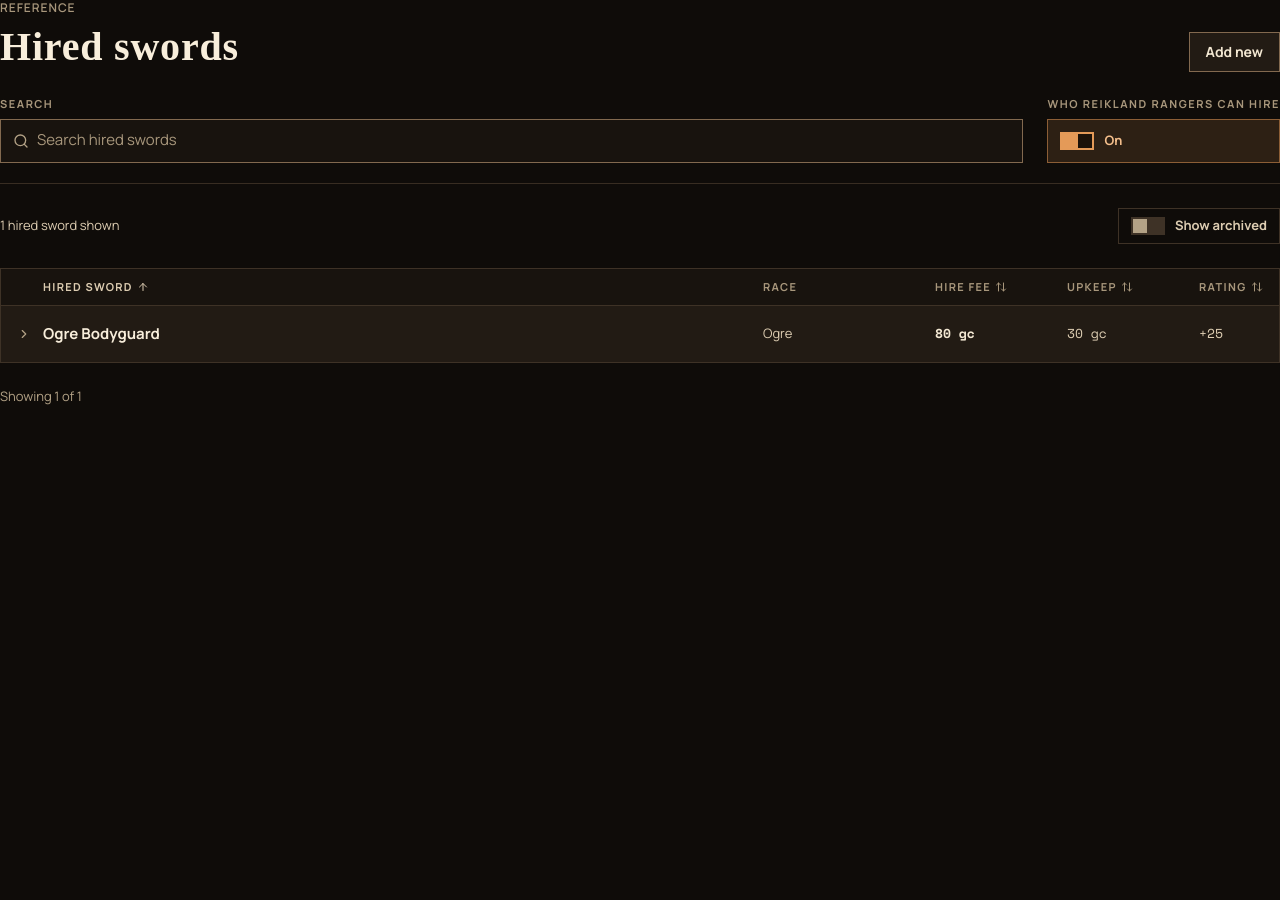
Test: Hired swords opened for a warband › saves a hired sword added here without hiring him, and types nobody in by hand
Expected: the text "Ogre Bodyguard" is shown, [43,323,160,344]
Click the button "Add new". click: (1234, 52)
box: [1188,32,1279,72]
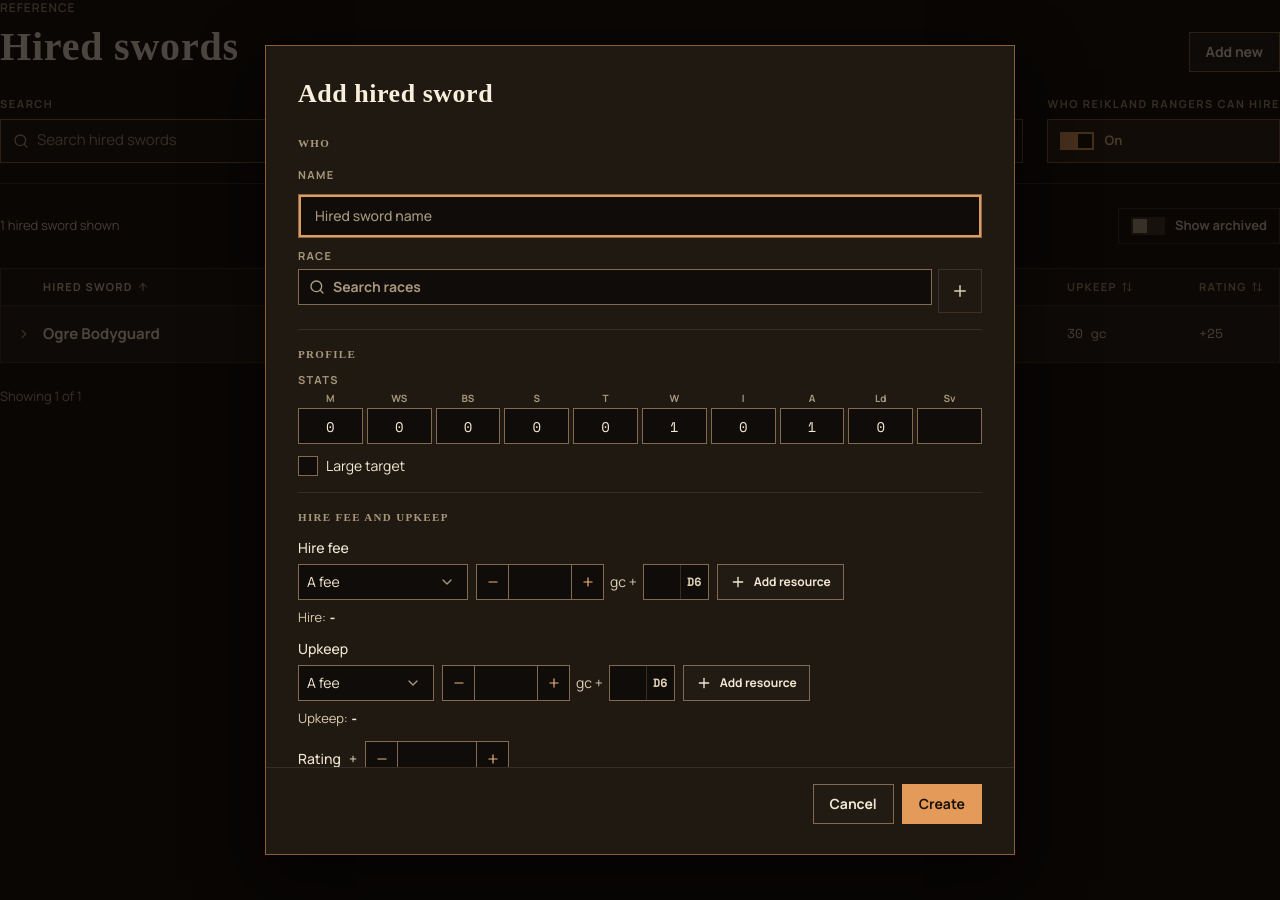
Type "Tilean Duellist" into the field labelled "Name". click: (640, 216)
box: [298,194,982,238]
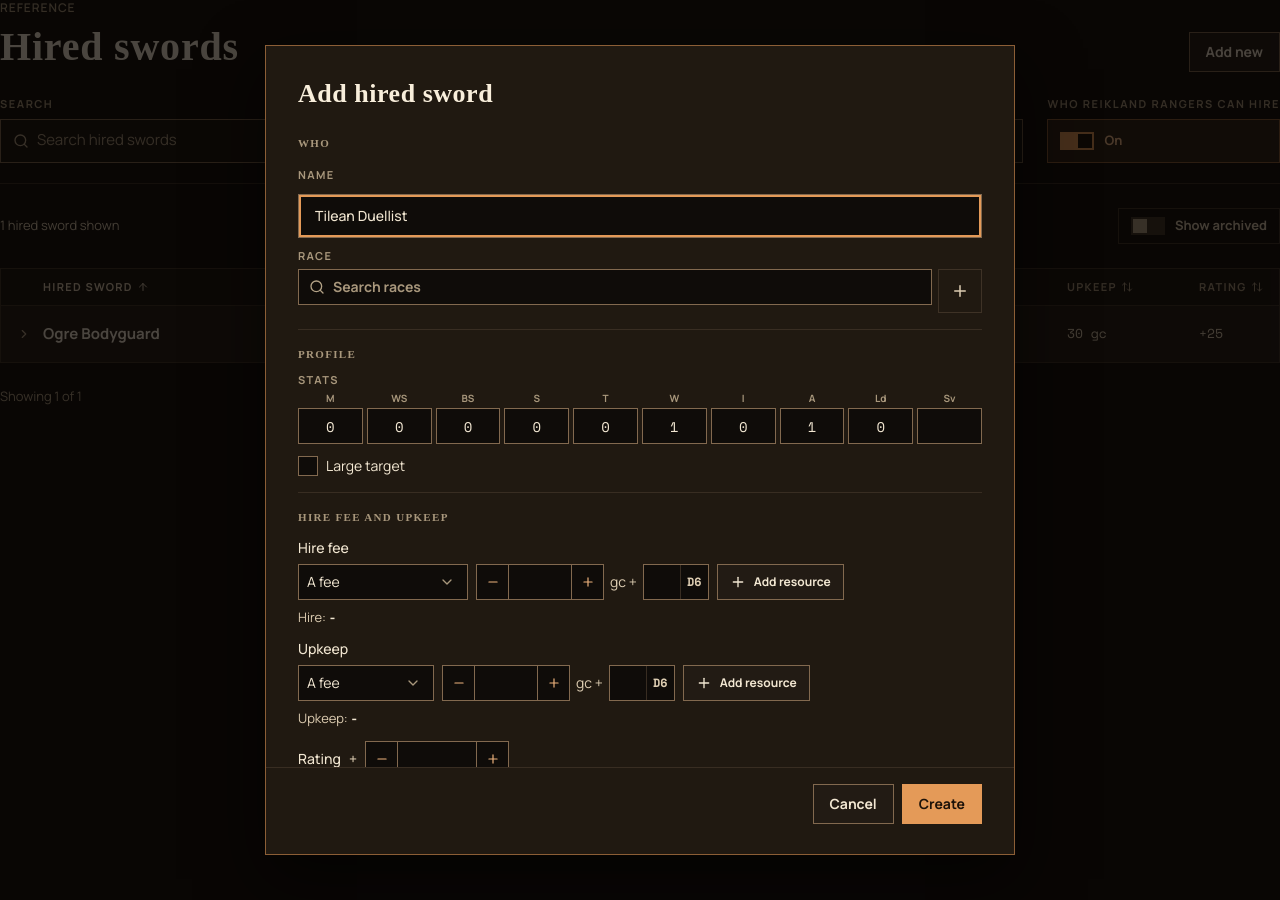
Click the button "Create". click: (942, 804)
box: [902,784,982,824]
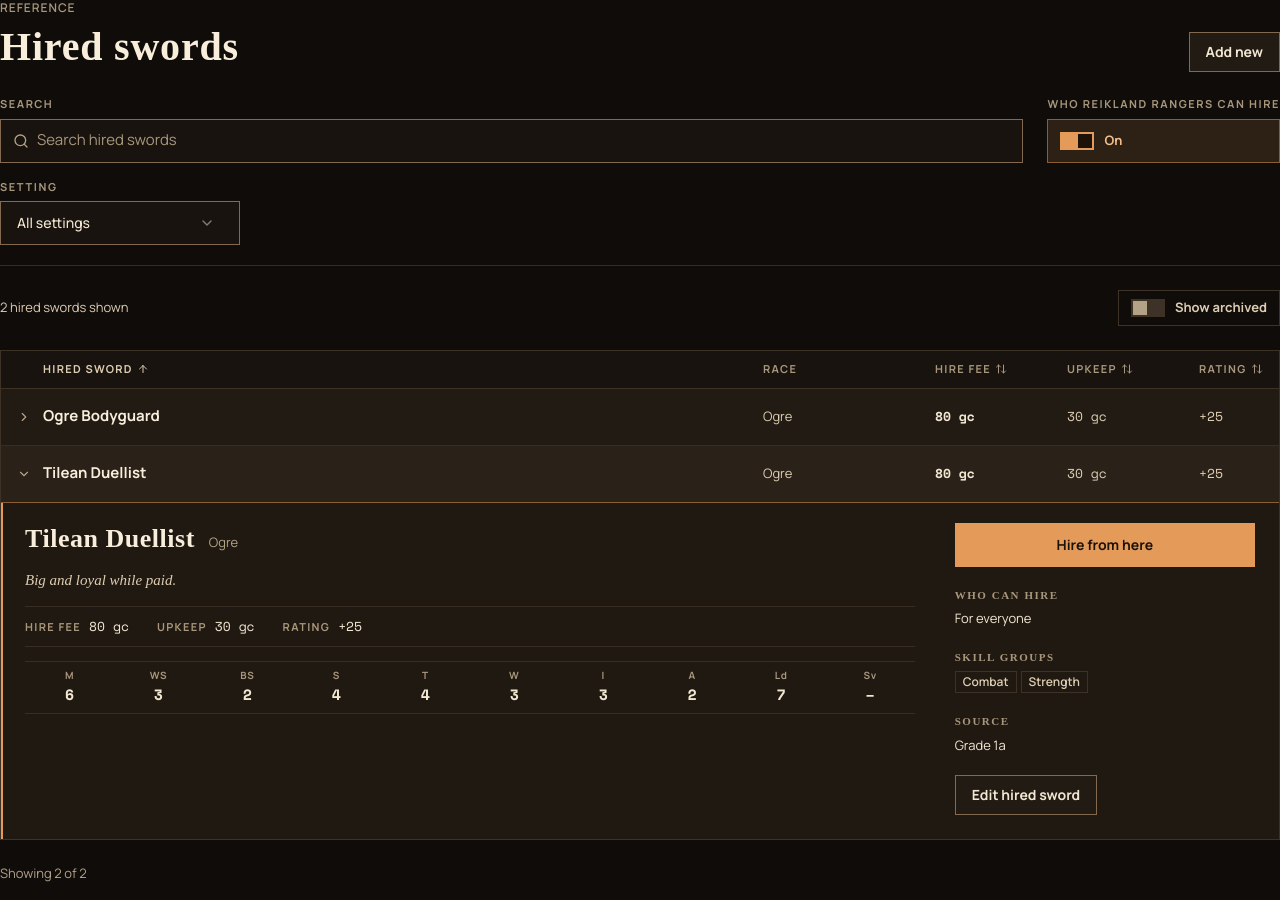
Result: the heading "Add hired sword" is gone
Result: the button "Hire from here" is shown at [955,522,1255,566]
